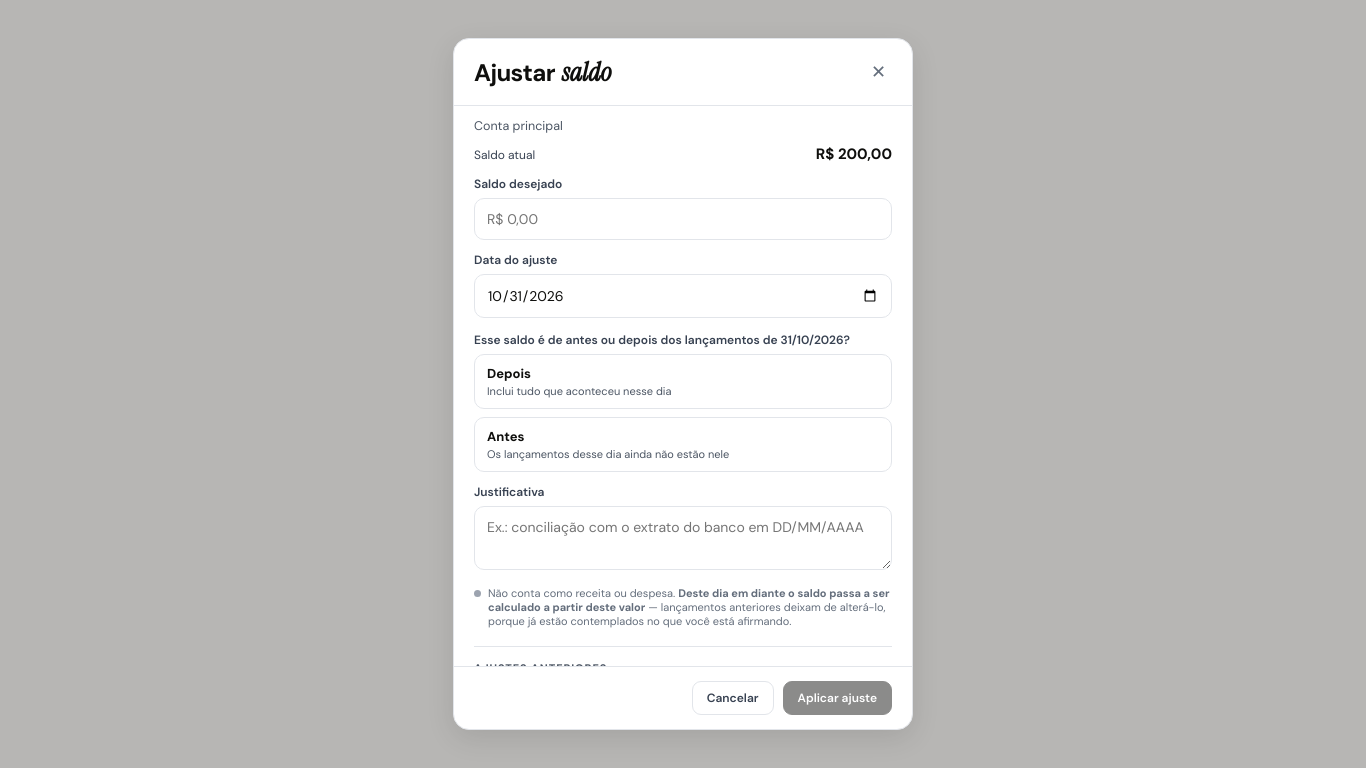
Scenario: <AdjustBalanceModal> › mostra saldo atual e calcula o delta a partir do saldo desejado
The width and height of the screenshot is (1366, 768).
Type "150" into the field with placeholder "R$ 0,00" at (683, 219), box [474,198,892,240]
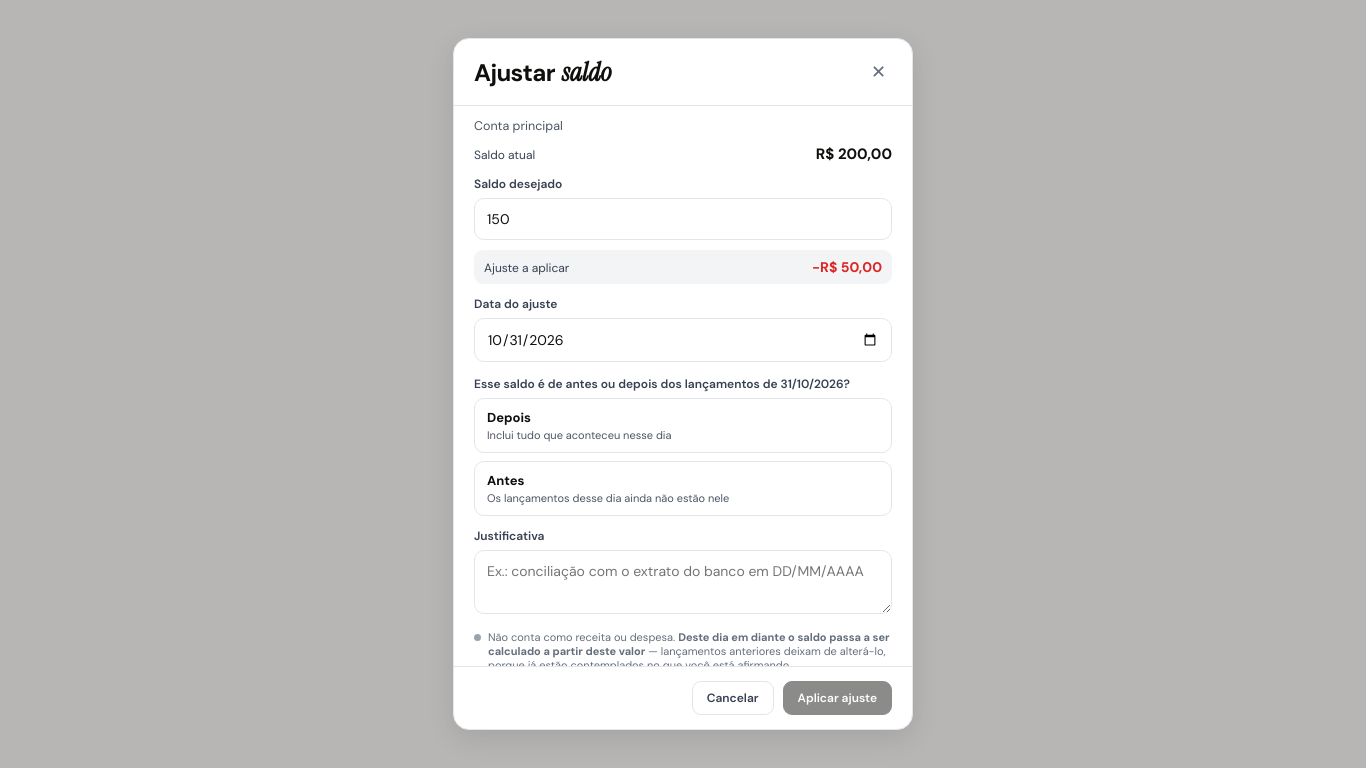
expect the text "Ajuste a aplicar" is shown: met, box [484,260,569,276]
expect the text "-R$ 50,00" is shown: met, box [812,258,882,276]
